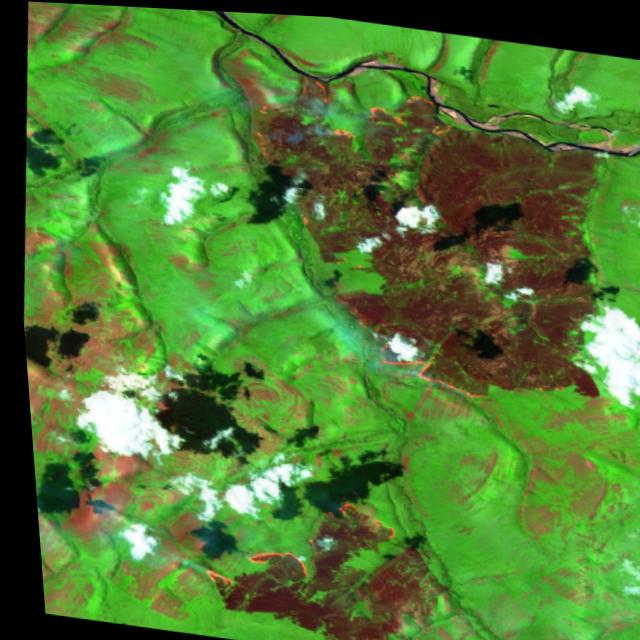fire: (231, 48, 460, 205), (179, 475, 411, 619), (336, 326, 509, 413)
